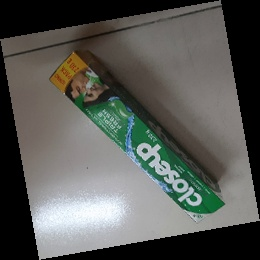CloseUp Xanh: (48, 50, 225, 226)
